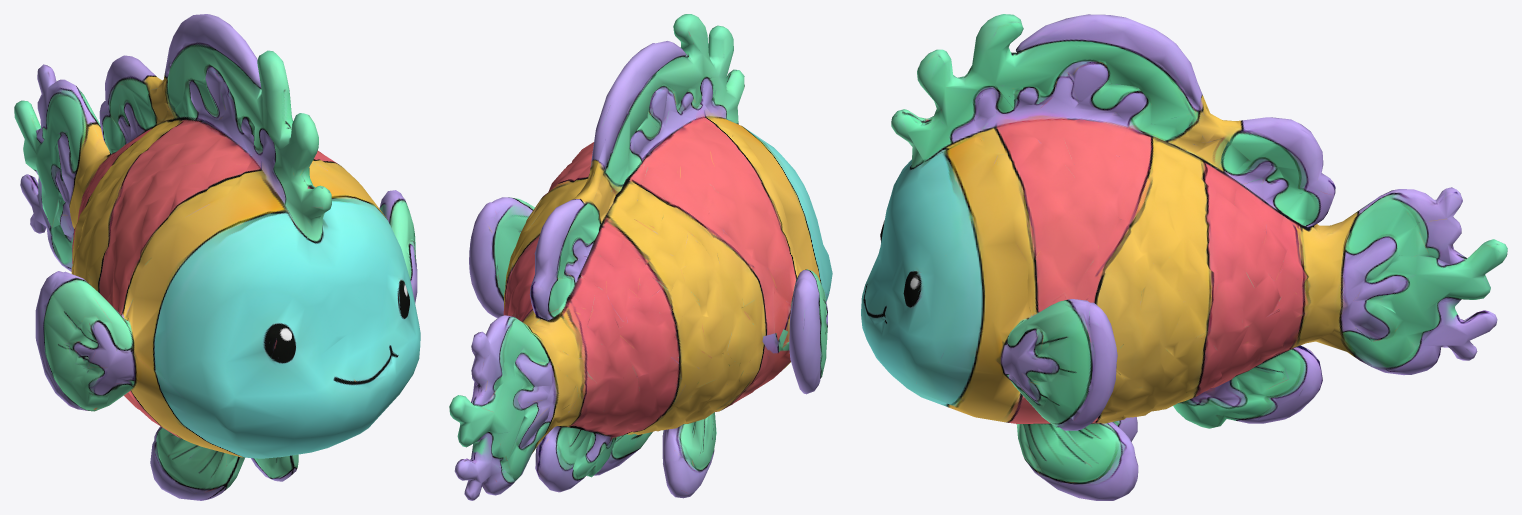
The model's file is static.glb.
The picture shows the model from 3 angles, left to right: view 1: azimuth 30°, elevation 25°; view 2: azimuth 150°, elevation 25°; view 3: azimuth 270°, elevation 25°; orthographic projection. The views are drawn at different scales.
Visible parts, largest first — view 1: Mesh_0; view 2: Mesh_0; view 3: Mesh_0.
Part boxes in pixels (bbox=[...]): Mesh_0: bbox=[14, 14, 420, 500]; Mesh_0: bbox=[449, 14, 832, 500]; Mesh_0: bbox=[861, 14, 1507, 500].
Bounding box in the file's own units: 1.25 × 1.5 × 1.9.
Materials: 1 (1 with a texture image).
